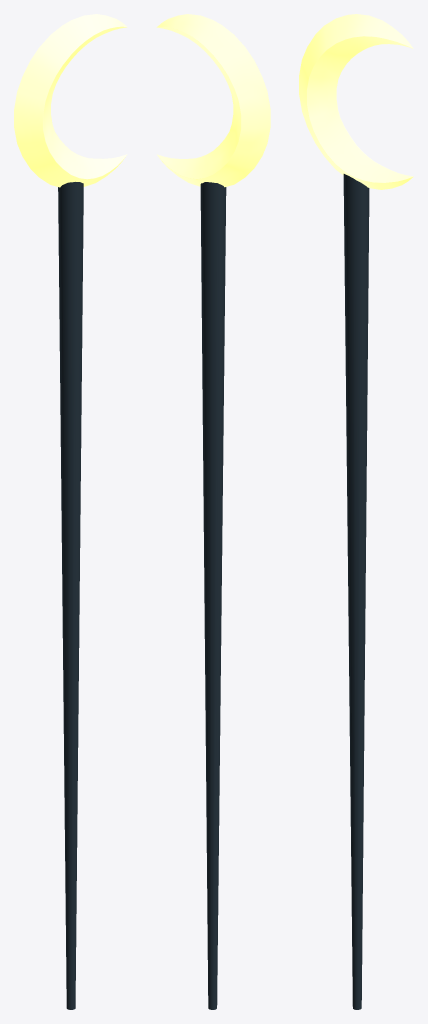
Rendered from staffOptimized.fbx.
3 views of the same model, side by side, from view 1: azimuth 30°, elevation 25°; view 2: azimuth 150°, elevation 25°; view 3: azimuth 330°, elevation 25° (orthographic).
Visible parts, largest first — view 1: staff; view 2: staff; view 3: staff.
Part boxes in pixels (<box>): staff: <box>14,14,127,1009</box>; staff: <box>156,14,270,1009</box>; staff: <box>299,14,413,1009</box>.
Size of the model in its own units: 19.39 by 161 by 6.39.
